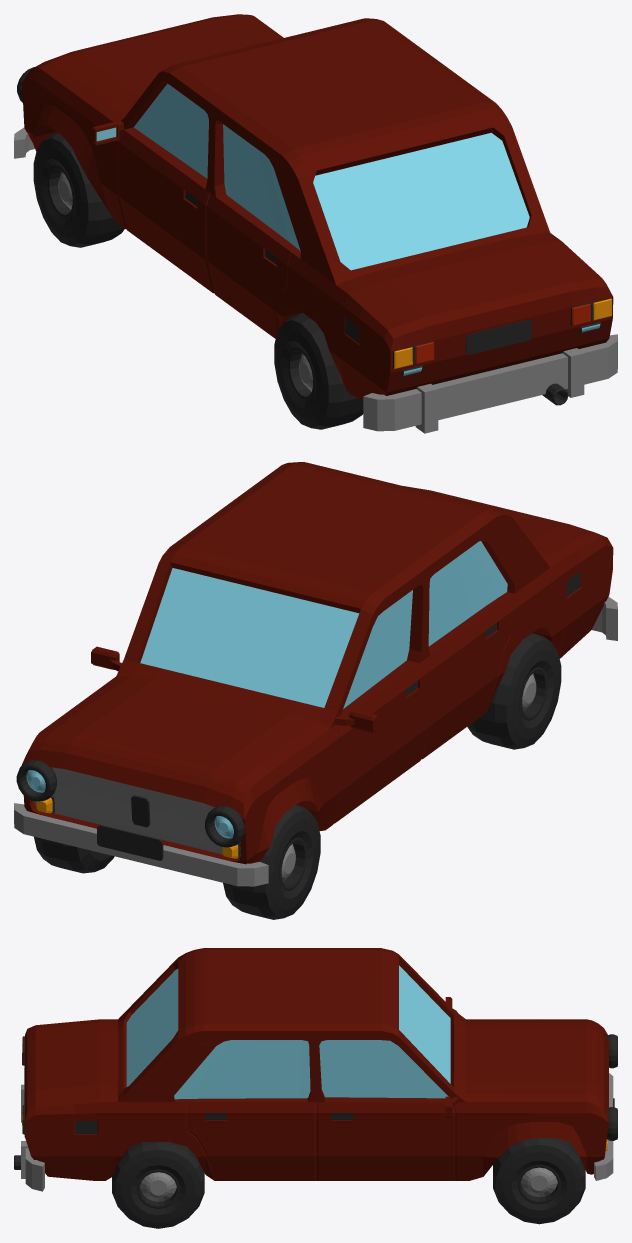
The model's file is higyliblend.fbx.
The picture shows the model from 3 angles, top to bottom: view 1: azimuth 30°, elevation 25°; view 2: azimuth 150°, elevation 25°; view 3: azimuth 270°, elevation 25°; orthographic projection. The views are drawn at different scales.
Parts seen in each view (by area): view 1: Cube, Cube.005, Cube.001, Cube.002, Cube.004, Куб.004, Cube.006; view 2: Cube, Cube.002, Cube.001, Cube.003, Окружность, Куб.003, Cube.006, Cube.005; view 3: Cube, Cube.001, Cube.002, Cube.005, Cube.003, Окружность.
Part boxes in pixels (<box>): Cube: <box>21,14,613,400</box>; Cube.005: <box>363,334,617,433</box>; Cube.001: <box>274,313,363,429</box>; Cube.002: <box>33,132,124,247</box>; Cube.004: <box>393,297,611,376</box>; Куб.004: <box>465,320,531,354</box>; Cube.006: <box>91,121,123,145</box>; Cube: <box>21,462,613,864</box>; Cube.002: <box>34,804,320,919</box>; Cube.001: <box>467,633,561,749</box>; Cube.003: <box>14,803,268,886</box>; Окружность: <box>16,760,244,847</box>; Куб.003: <box>97,825,163,860</box>; Cube.006: <box>91,646,377,733</box>; Cube.005: <box>591,596,617,640</box>; Cube: <box>25,948,608,1180</box>; Cube.001: <box>112,1142,204,1228</box>; Cube.002: <box>493,1138,585,1224</box>; Cube.005: <box>21,1084,44,1191</box>; Cube.003: <box>594,1073,613,1180</box>; Окружность: <box>607,1034,617,1140</box>.
Bounding box in the file's own units: 187 × 160 × 438.
